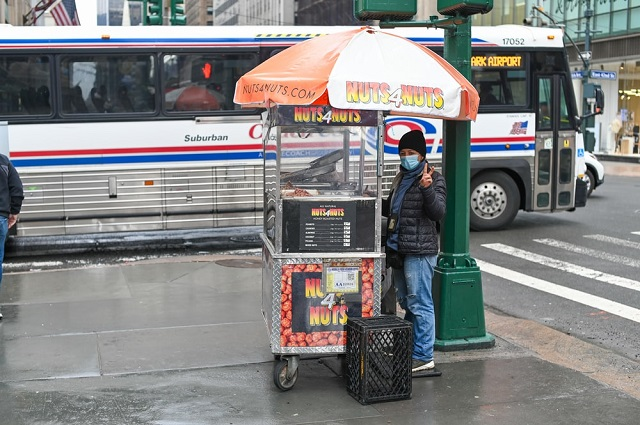bus: (1, 21, 577, 229)
cart: (260, 104, 383, 389)
person: (387, 129, 447, 379), (1, 154, 24, 323)
pole: (436, 12, 488, 350)
